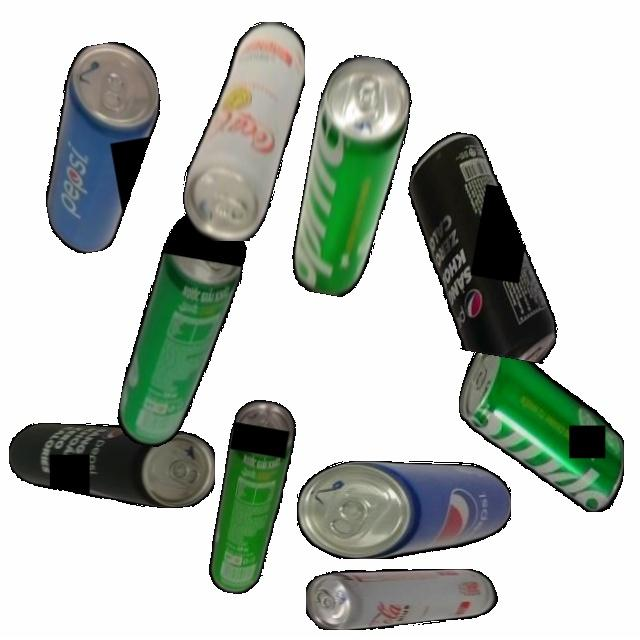debris: (383, 126, 588, 365), (21, 36, 184, 258), (114, 205, 251, 456), (287, 50, 418, 303), (458, 336, 624, 512), (182, 21, 305, 241), (297, 460, 511, 559), (204, 396, 300, 599), (8, 423, 215, 508), (306, 568, 500, 630)
